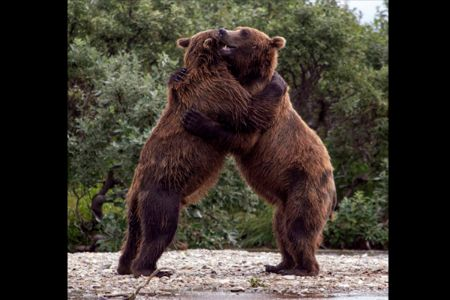bear: (221, 23, 344, 279), (123, 25, 236, 275)
